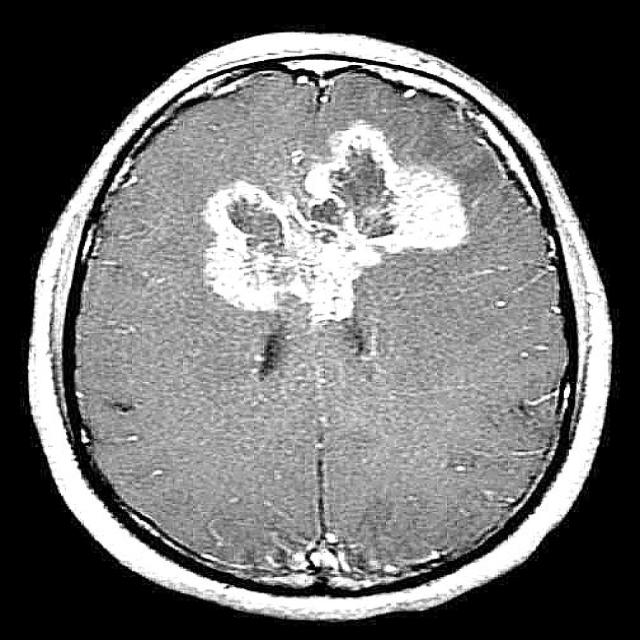Tumor-Cell: (183, 151, 490, 323)
